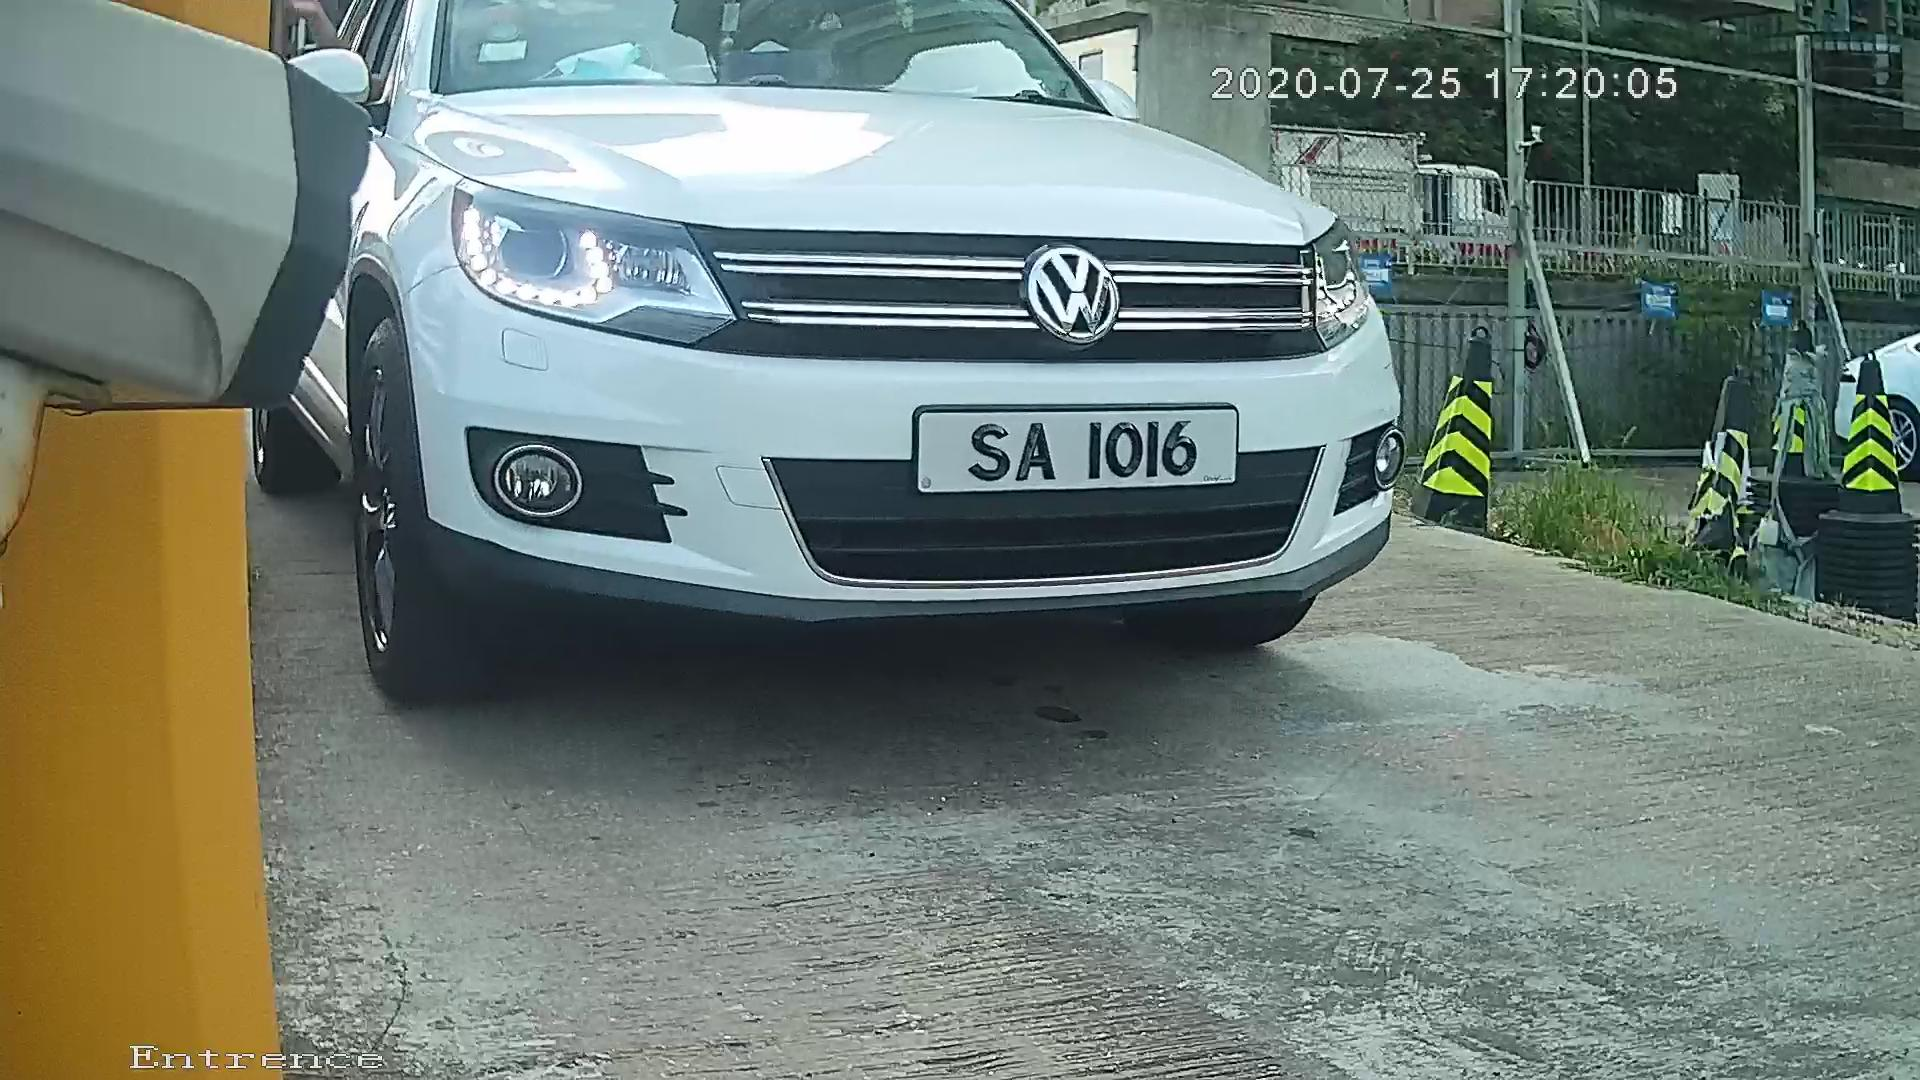Car: (163, 1, 1535, 719)
License Plate: (866, 391, 1269, 507)
